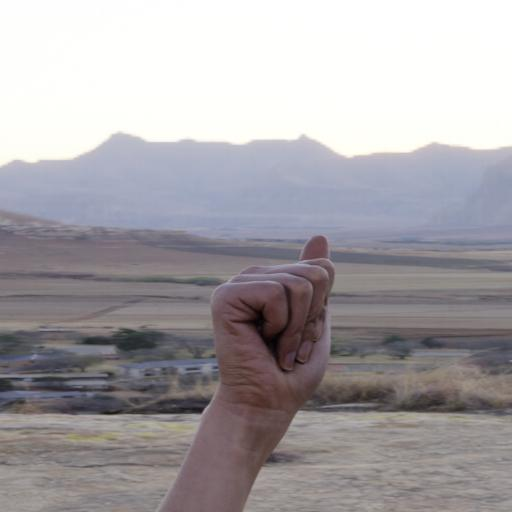A: (204, 230, 347, 421)
